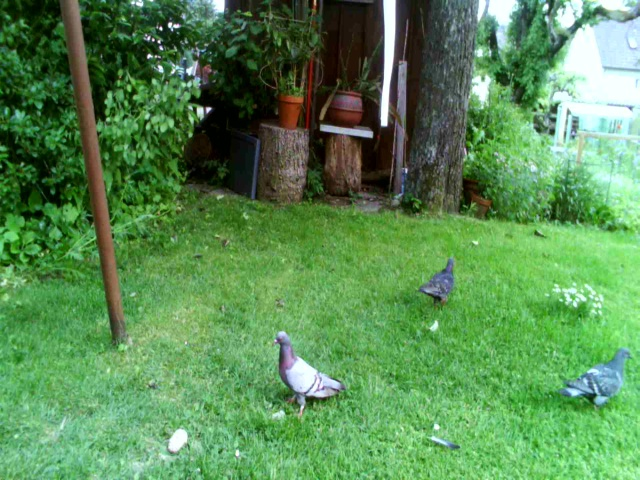Pigeon: (264, 325, 346, 417), (559, 343, 633, 417), (416, 249, 461, 317)
